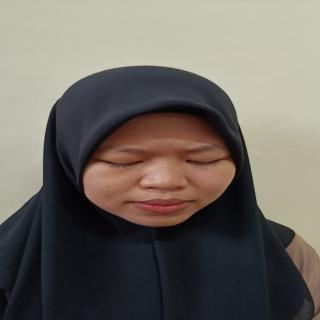Sedih: (68, 98, 256, 232)
